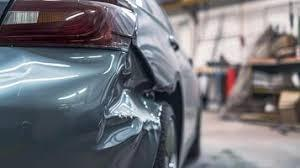dent: (94, 32, 170, 167)
